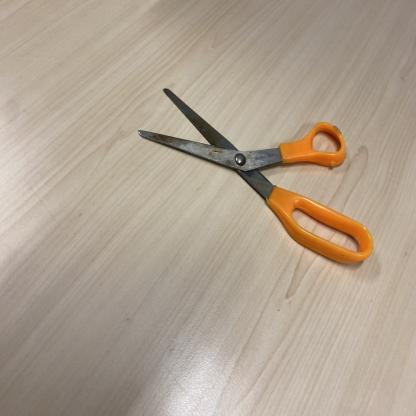scissors: (137, 87, 376, 266)
